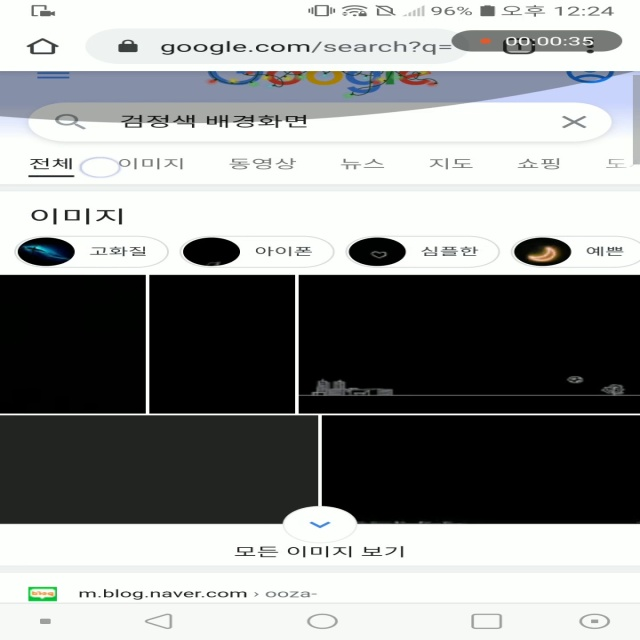Cursor: (79, 156, 123, 179)
